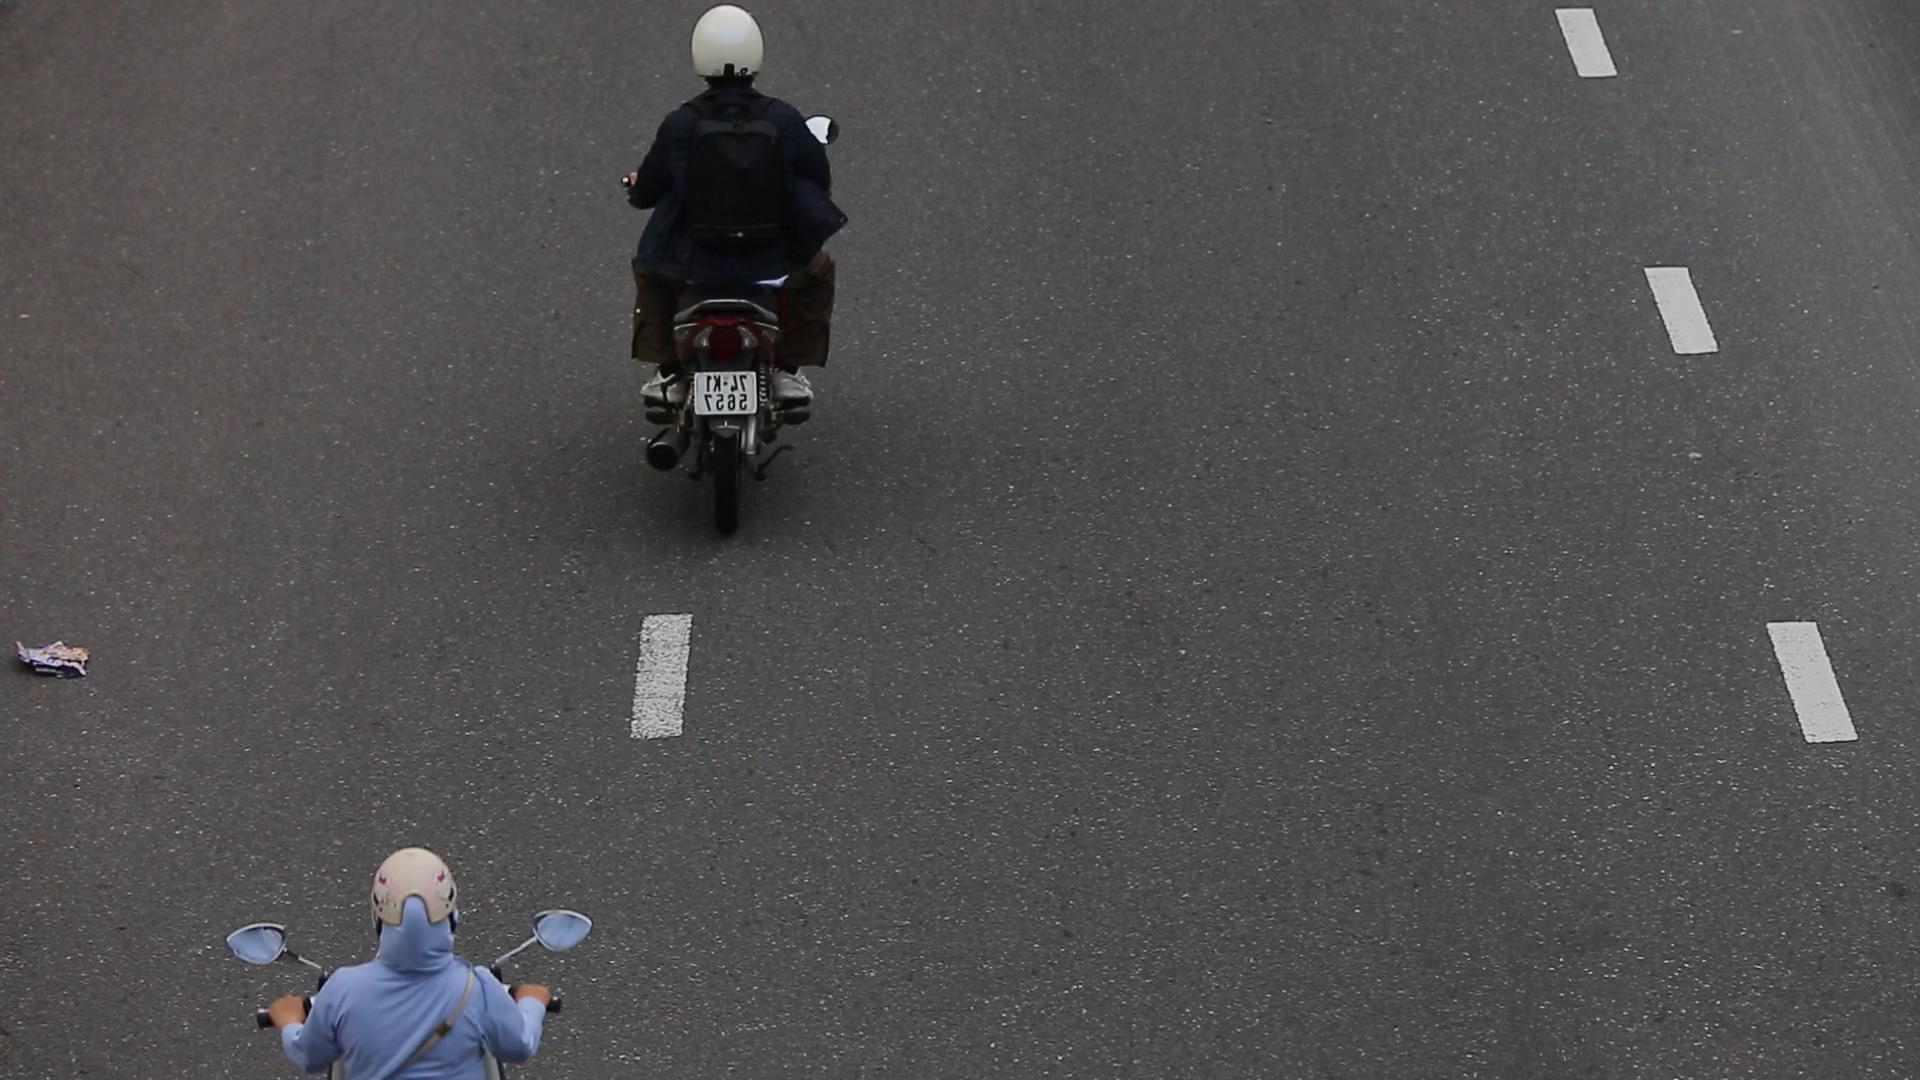motobike: (591, 0, 868, 545)
